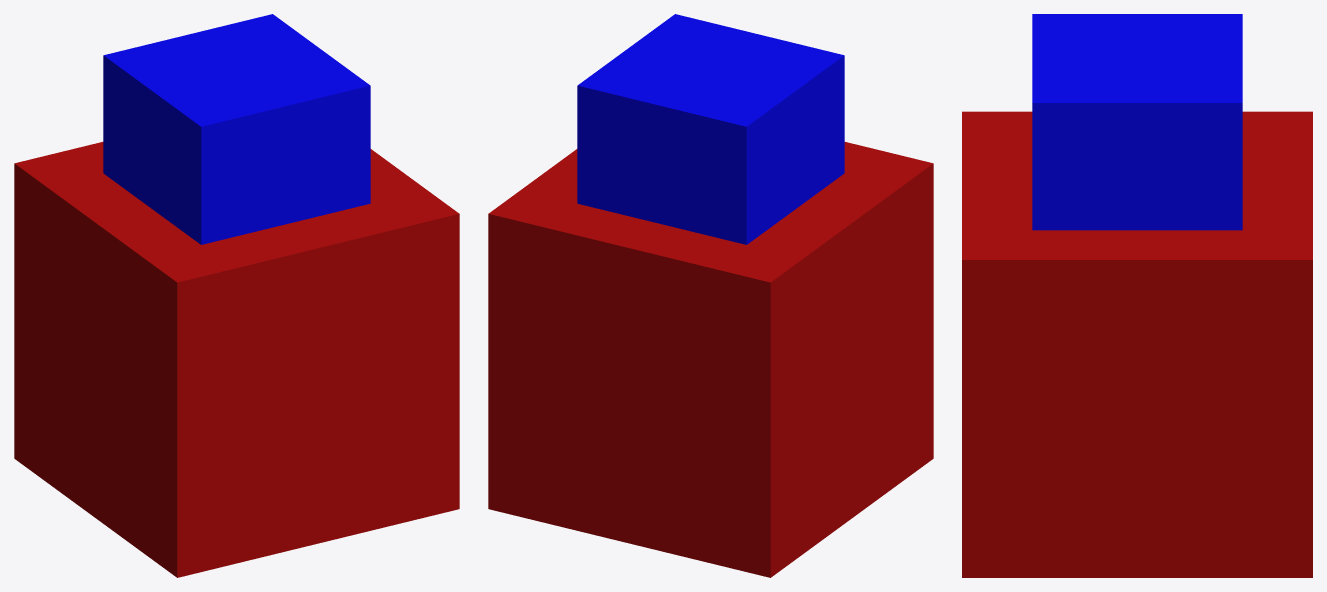
The model's file is texture_fixture_noisy.obj.
The picture shows the model from 3 angles, left to right: view 1: azimuth 30°, elevation 25°; view 2: azimuth 150°, elevation 25°; view 3: azimuth 270°, elevation 25°; orthographic projection. The views are drawn at different scales.
Bounding box in the file's own units: 2 × 2.8 × 2.
Materials: 1 (1 with a texture image).
